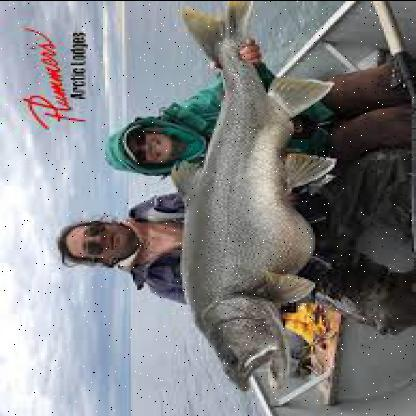fish: (166, 3, 332, 390)
